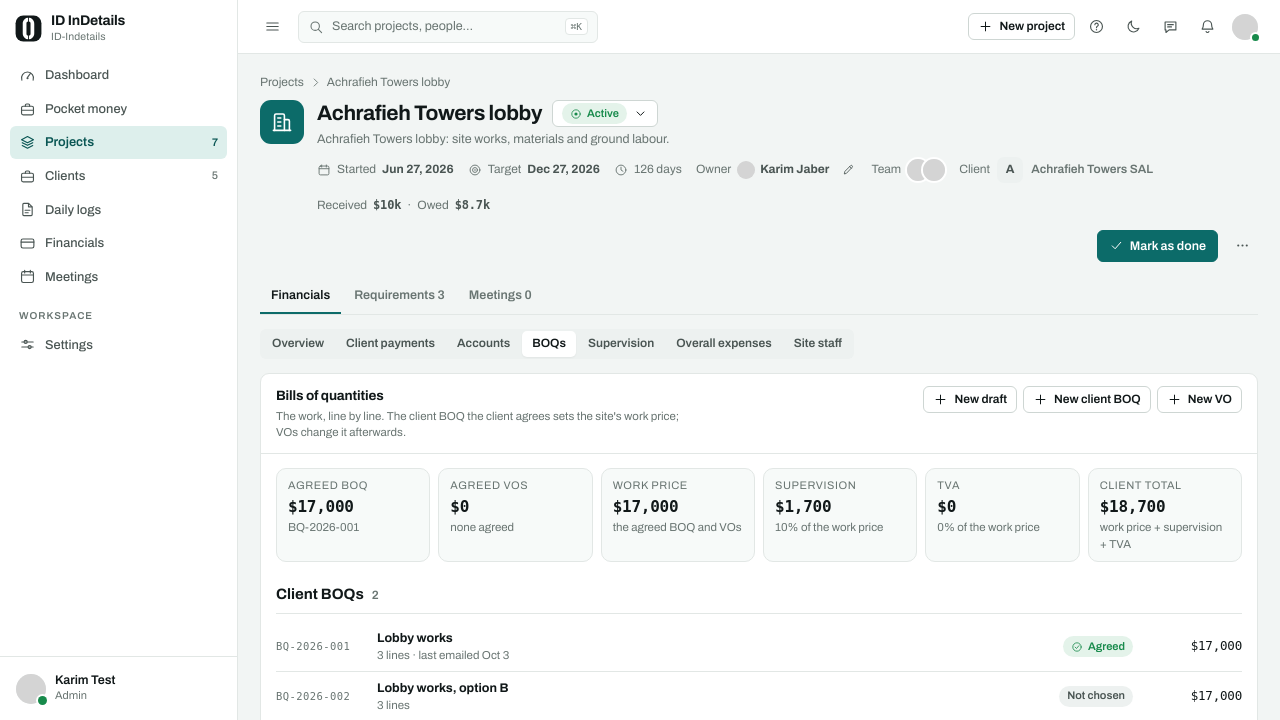
Scenario: starting a BOQ › makes a client BOQ, from a draft if asked, and opens it
The image size is (1280, 720).
Click the button "New client BOQ": (1087, 400) 1023,386 -> 1151,413
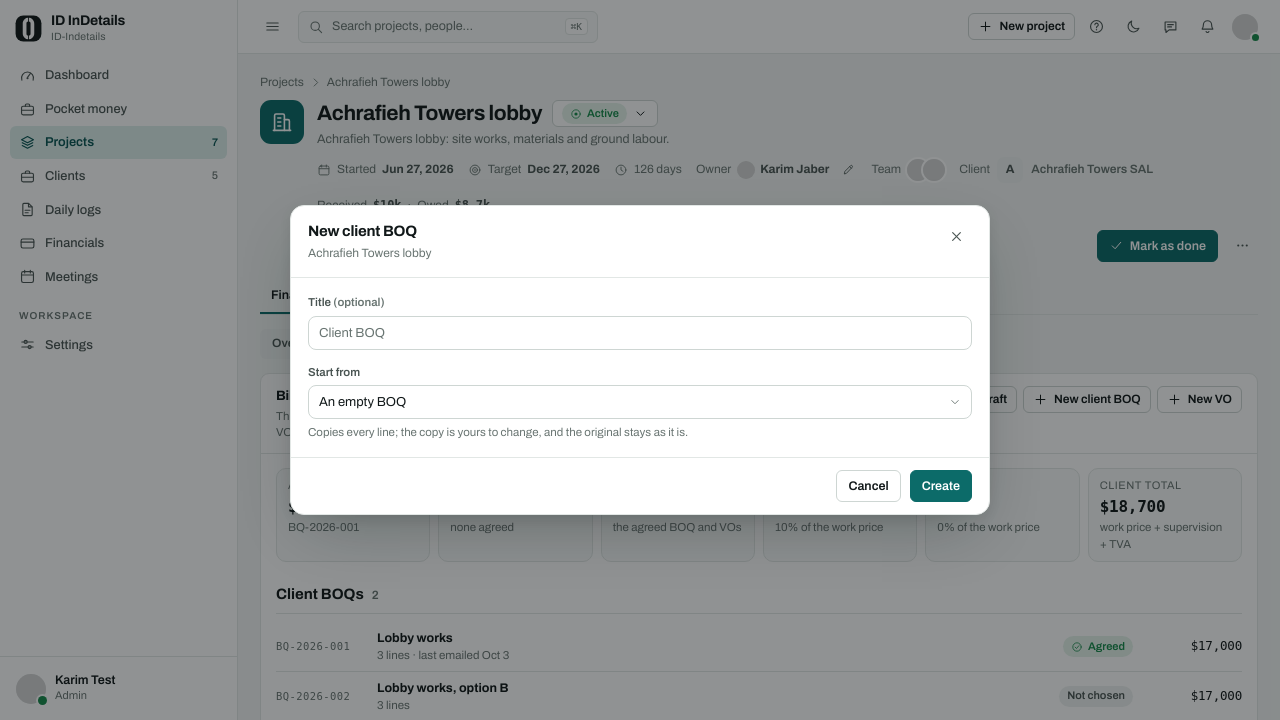
In the field labelled "Title (optional)": (640, 333) 308,316 -> 972,350, type "Option C"
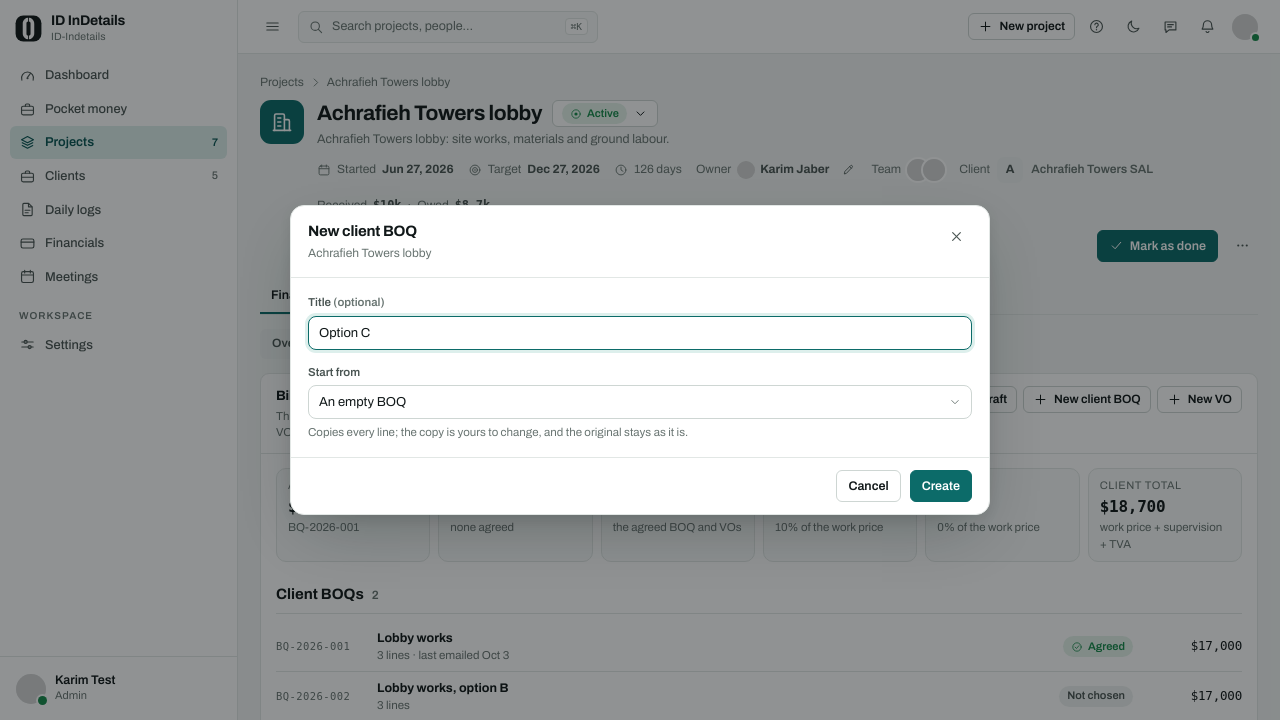
Click the button named "Start from": (363, 402) 308,385 -> 972,419
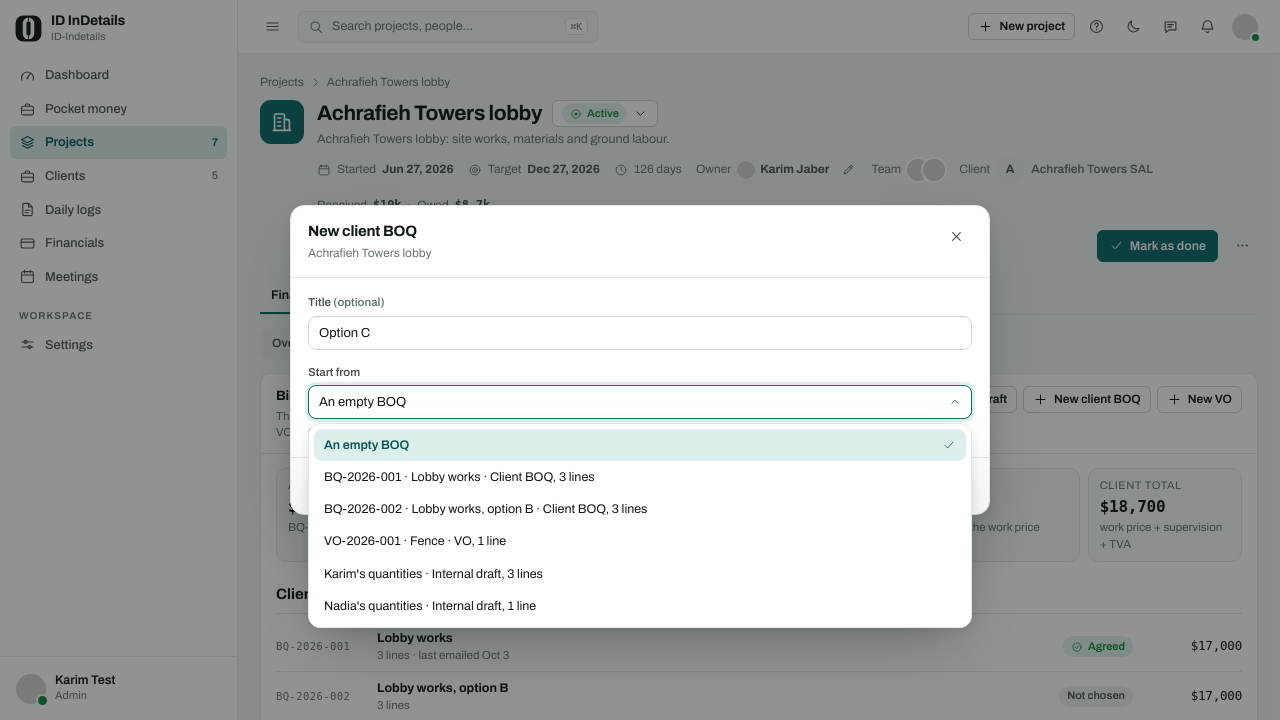
Click the option "Karim's quantities · Internal draft, 3 lines": (434, 574) 324,566 -> 543,580
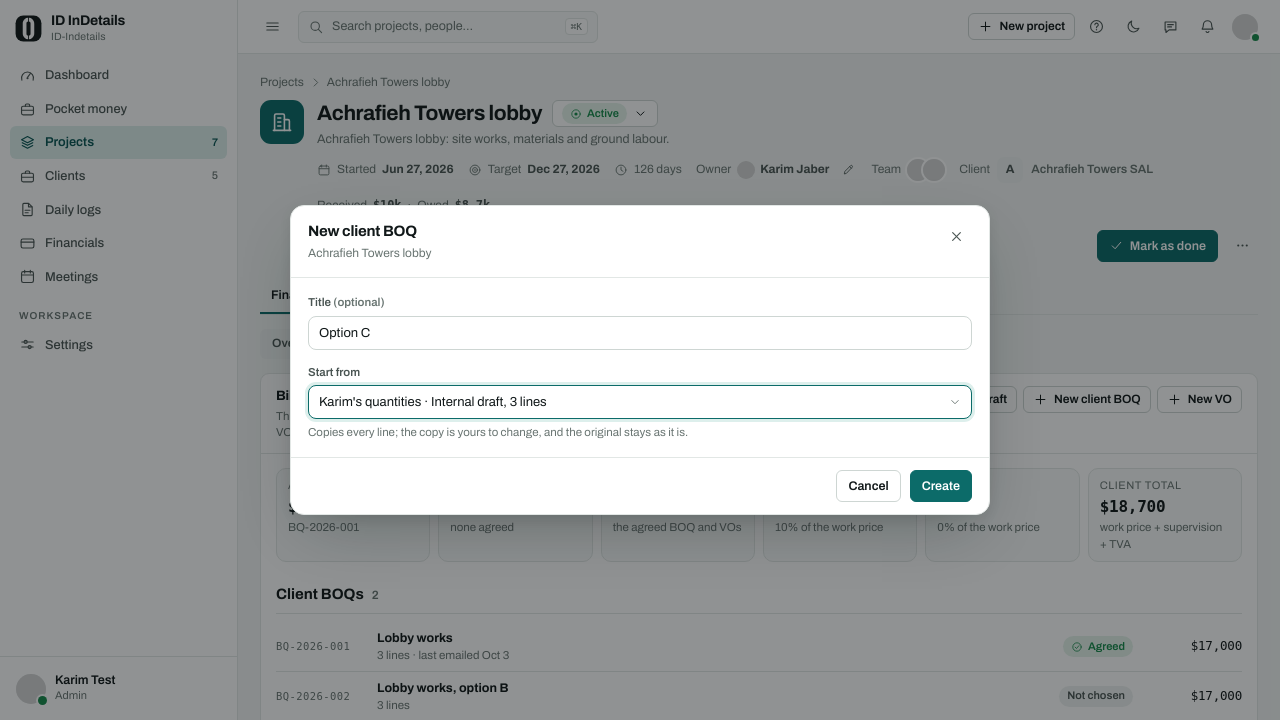
Click the button "Create": (941, 486) 910,470 -> 972,502
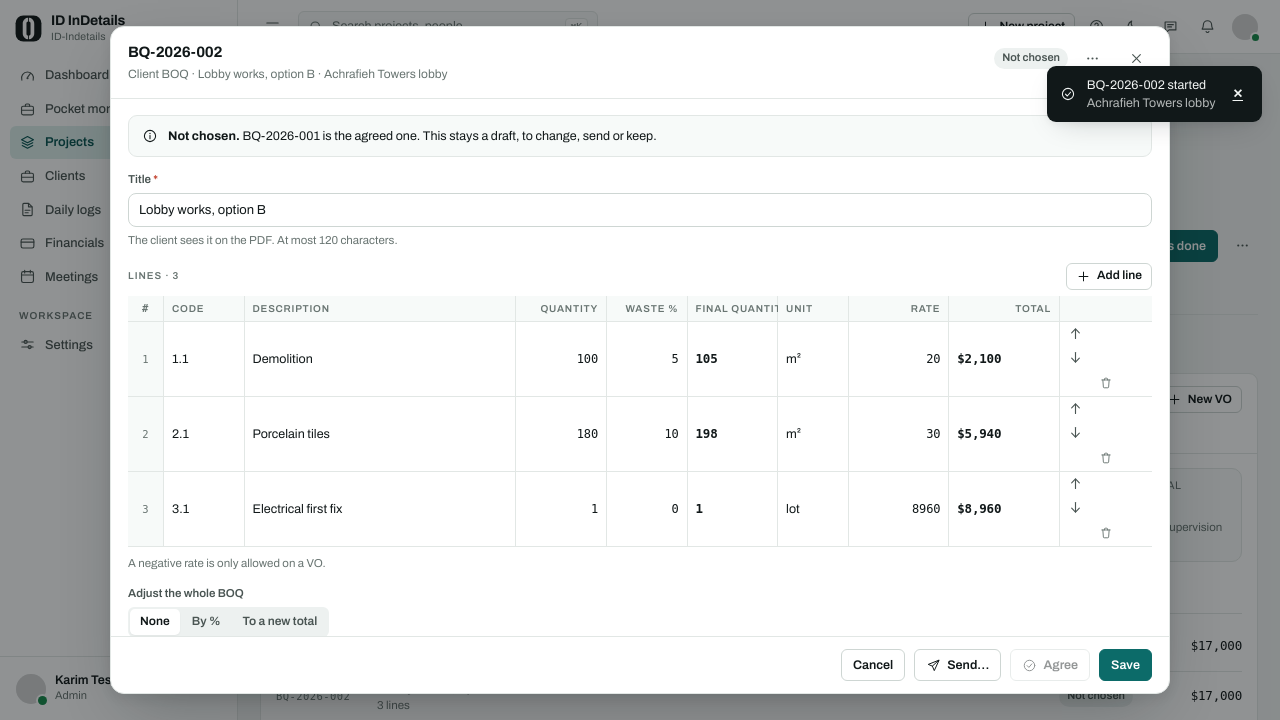
Now the dialog "BQ-2026-002" is shown
